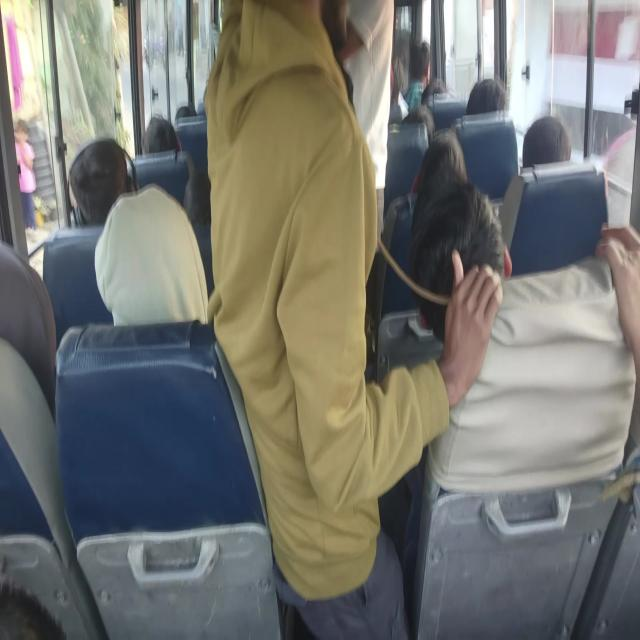person: (203, 0, 504, 638), (408, 177, 639, 496), (68, 136, 208, 327), (409, 178, 510, 342), (67, 135, 129, 226), (410, 127, 467, 211), (13, 118, 37, 230), (522, 114, 571, 168), (141, 114, 181, 154), (466, 76, 506, 115)
